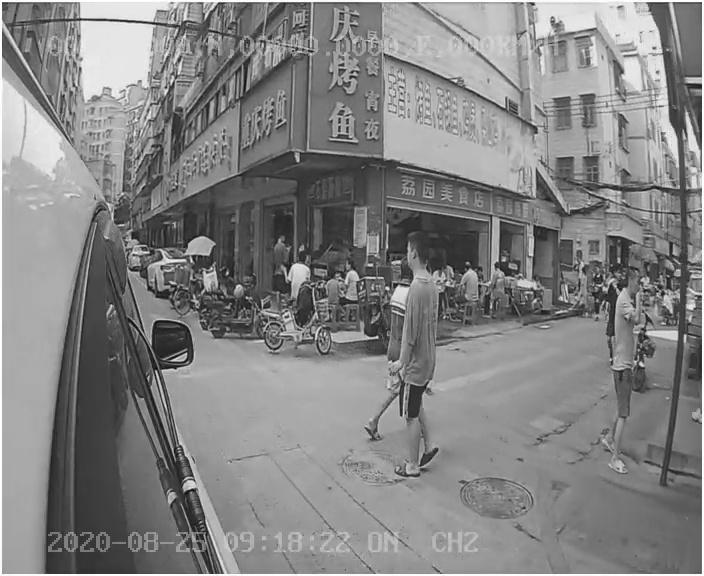person: (374, 236, 477, 485), (590, 271, 653, 473)
